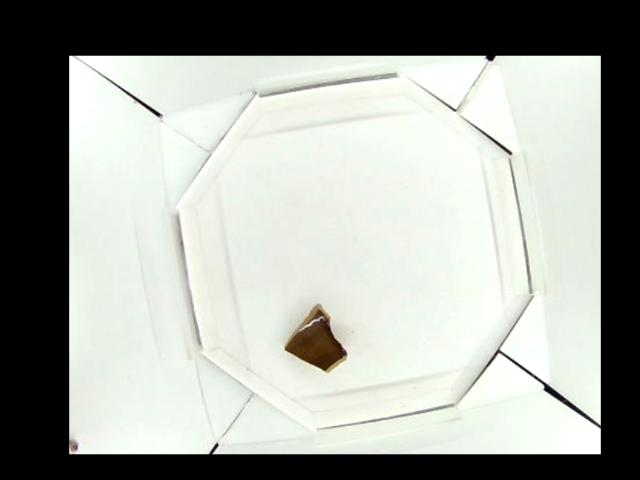China: (282, 303, 349, 376)
